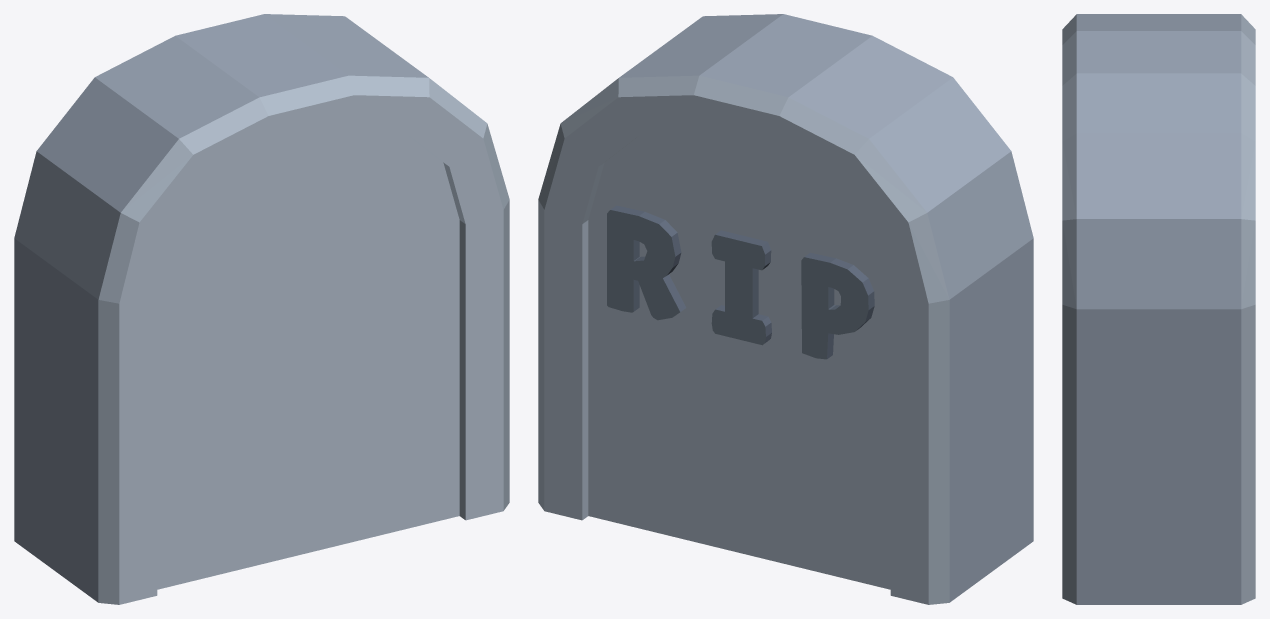
Rendered from died.FBX.
3 renders of one model, left to right at view 1: azimuth 30°, elevation 25°; view 2: azimuth 150°, elevation 25°; view 3: azimuth 270°, elevation 25°, orthographic. The views are drawn at different scales.
Parts seen in each view (by area): view 1: died; view 2: died; view 3: died.
Part boxes in pixels (bbox=[...]): died: bbox=[14, 14, 509, 604]; died: bbox=[538, 14, 1033, 604]; died: bbox=[1062, 14, 1255, 604].
Bounding box in the file's own units: 1.8 × 1.95 × 0.75.
Materials: 1 (1 with a texture image).
